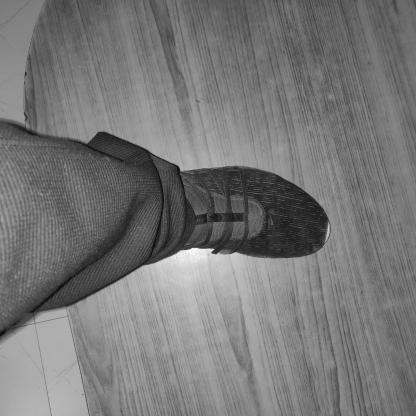ankle: (187, 226, 192, 229)
heel: (160, 251, 165, 256)
left_foot: (152, 167, 332, 260)
pinky: (296, 191, 300, 195)
toe: (305, 248, 309, 251)
